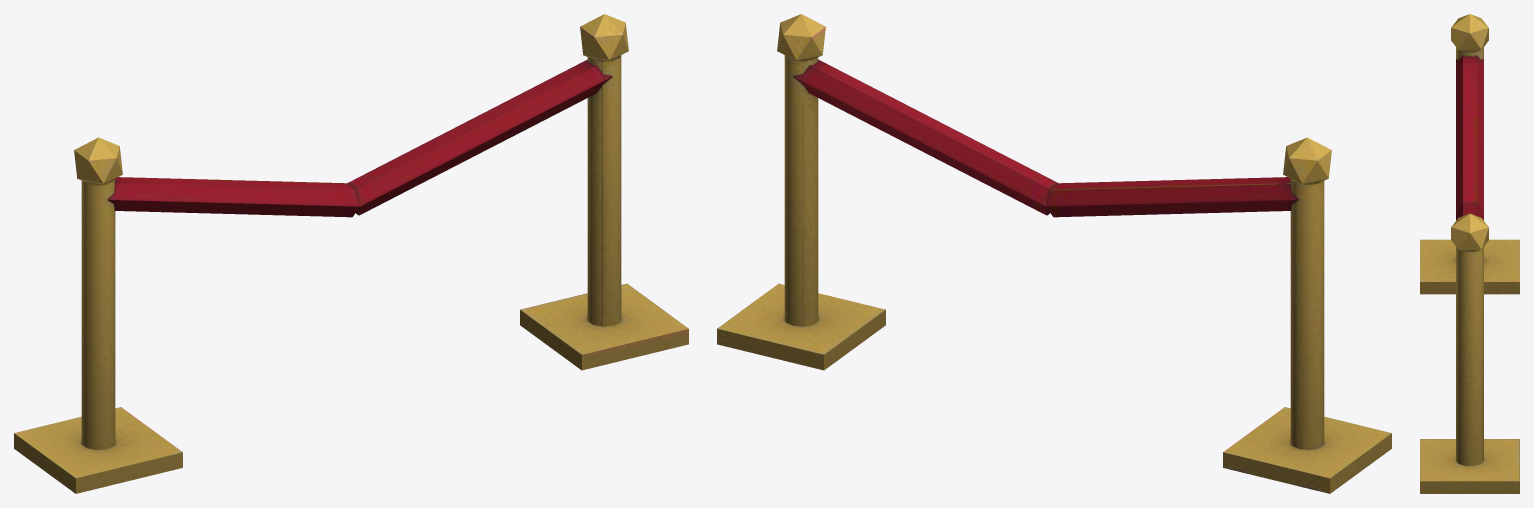
Rendered from cordon.glb.
3 renders of one model, left to right at view 1: azimuth 30°, elevation 25°; view 2: azimuth 150°, elevation 25°; view 3: azimuth 270°, elevation 25°, orthographic. The views are drawn at different scales.
Visible parts, largest first — view 1: cordon; view 2: cordon; view 3: cordon.
Boxes of the visible parts, bbox=[...] form: cordon: bbox=[14, 14, 688, 493]; cordon: bbox=[717, 14, 1391, 493]; cordon: bbox=[1420, 14, 1519, 493].
Size of the model in its own units: 2.06 by 1.03 by 0.36.
1 material, 1 textured.
